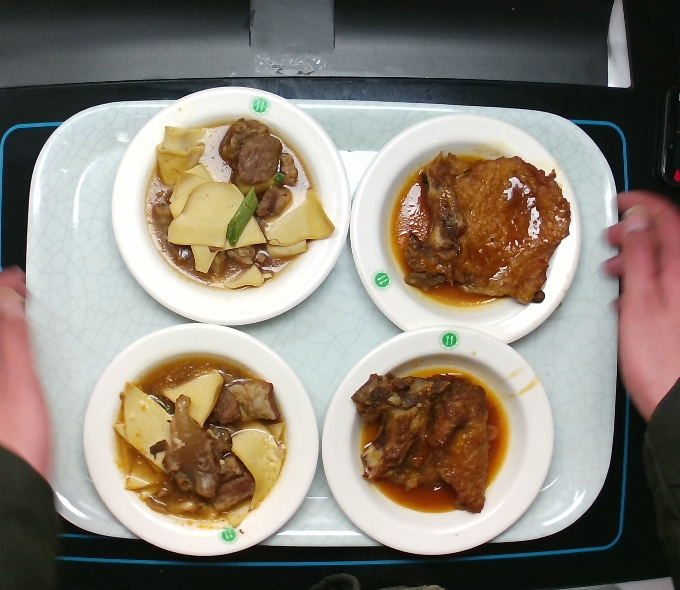wcq-DaPai: (395, 147, 569, 308), (354, 366, 498, 516)
wcq-QianZhangNiuRou: (139, 110, 326, 291), (103, 350, 290, 531)
